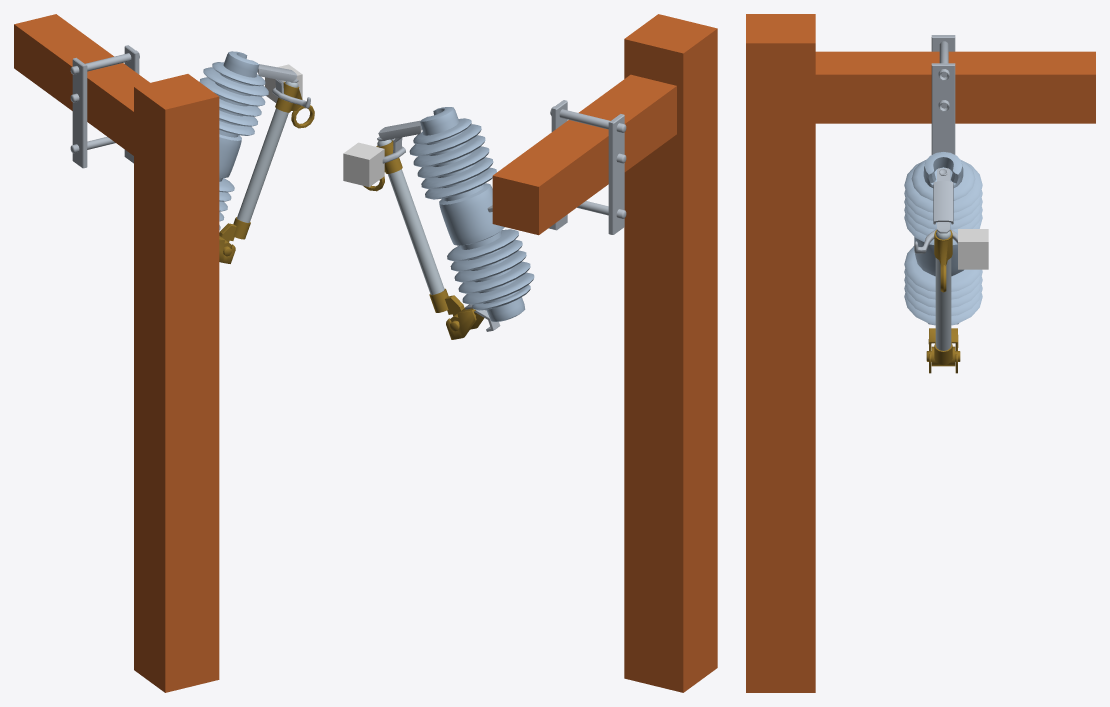
The model's file is high_voltage_pole.glb.
3 views of the same model, side by side, from view 1: azimuth 30°, elevation 25°; view 2: azimuth 150°, elevation 25°; view 3: azimuth 270°, elevation 25° (orthographic). The views are drawn at different scales.
Parts seen in each view (by area): view 1: Cube.007, Cylinder.016, Cylinder.021, Plane.002, Plane.004, Cylinder.019; view 2: Cube.007, Cylinder.016, Cylinder.021, Plane.002, TRG_fuse_position, Plane.004, Plane.007, Cylinder.019; view 3: Cube.007, Cylinder.016, Cylinder.021, Plane.001, Plane.004, TRG_fuse_position.
Boxes of the visible parts, x1,y1,x2,y2 form: Cube.007: (14,14,219,692); Cylinder.016: (199,51,268,230); Cylinder.021: (219,81,314,256); Plane.002: (72,57,87,168); Plane.004: (257,64,310,108); Cylinder.019: (70,50,139,74); Cube.007: (492,14,717,692); Cylinder.016: (409,107,534,321); Cylinder.021: (363,139,475,331); Plane.002: (608,114,624,234); TRG_fuse_position: (343,142,384,187); Plane.004: (377,120,421,163); Plane.007: (446,308,484,339); Cylinder.019: (550,106,626,132); Cube.007: (746,14,1095,692); Cylinder.016: (904,152,982,325); Cylinder.021: (926,230,960,366); Plane.001: (931,63,955,154); Plane.004: (914,168,957,253); TRG_fuse_position: (958,229,988,269).
Size of the model in its own units: 0.6894 by 1.58 by 0.7734.
